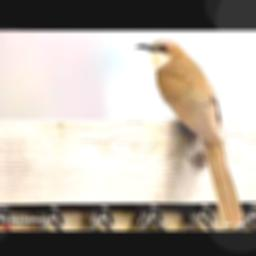Cuckoo: (134, 40, 243, 227)
